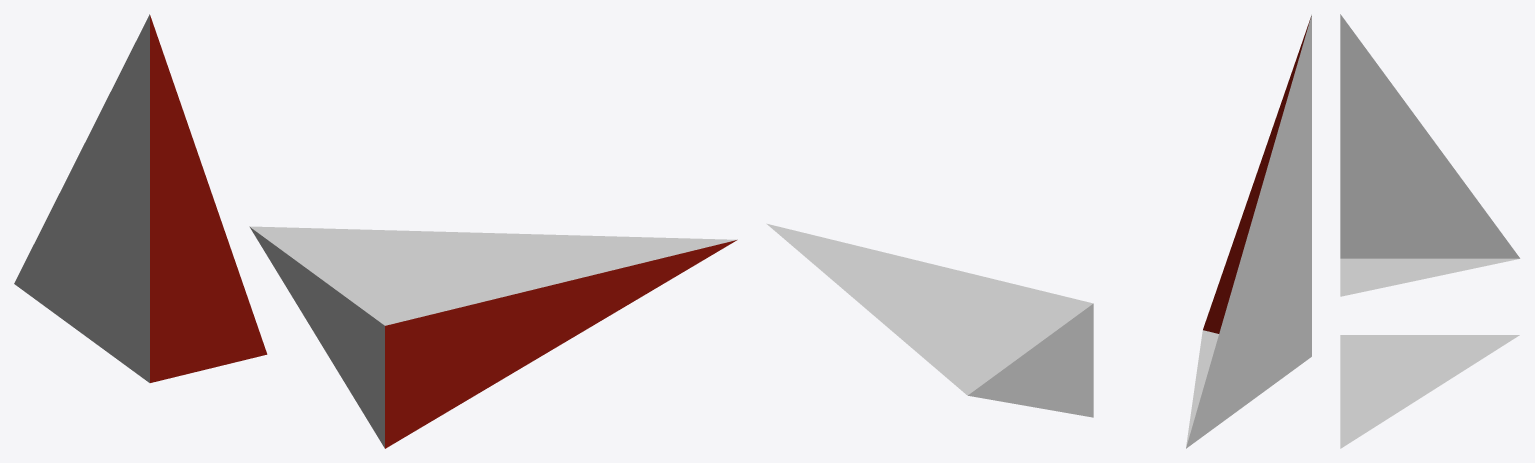
Rendered from TwoCorners_2014_YUp.fbx.
3 views of the same model, side by side, from view 1: azimuth 30°, elevation 25°; view 2: azimuth 150°, elevation 25°; view 3: azimuth 270°, elevation 25° (orthographic). The views are drawn at different scales.
Visible parts, largest first — view 1: ScaledCorner, Corner0; view 2: ScaledCorner, Corner0; view 3: Corner0, ScaledCorner.
Part boxes in pixels (x1,y1,x2,y2): ScaledCorner: [249, 226, 737, 448]; Corner0: [14, 14, 267, 382]; ScaledCorner: [766, 223, 1093, 417]; Corner0: [1186, 14, 1311, 448]; Corner0: [1340, 14, 1520, 296]; ScaledCorner: [1340, 335, 1519, 448].
Bounding box in the file's own units: 50 × 40 × 20.
